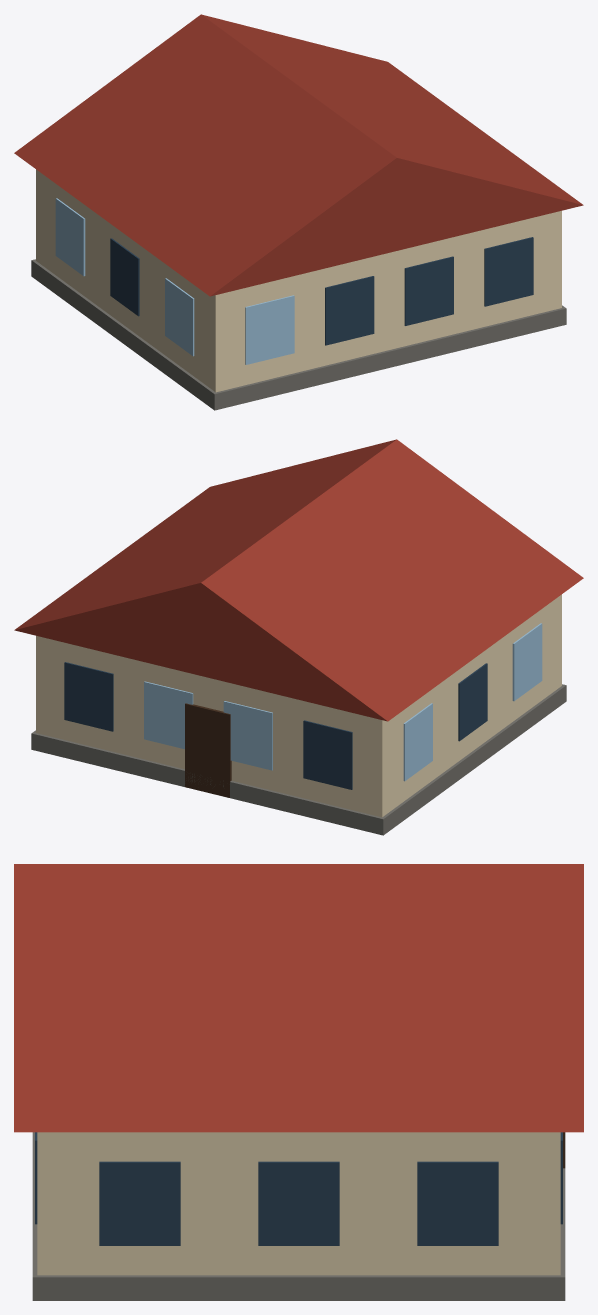
The model's file is bld_house_a.glb.
3 views of the same model, one above another, from view 1: azimuth 30°, elevation 25°; view 2: azimuth 150°, elevation 25°; view 3: azimuth 270°, elevation 25° (orthographic). The views are drawn at different scales.
Visible parts, largest first — view 1: bld_house_a__mesh; view 2: bld_house_a__mesh; view 3: bld_house_a__mesh.
Part boxes in pixels (<box>): bld_house_a__mesh: <box>14,14,583,410</box>; bld_house_a__mesh: <box>14,439,583,835</box>; bld_house_a__mesh: <box>14,864,583,1300</box>.
Size of the model in its own units: 10.8 by 5.92 by 9.8.
